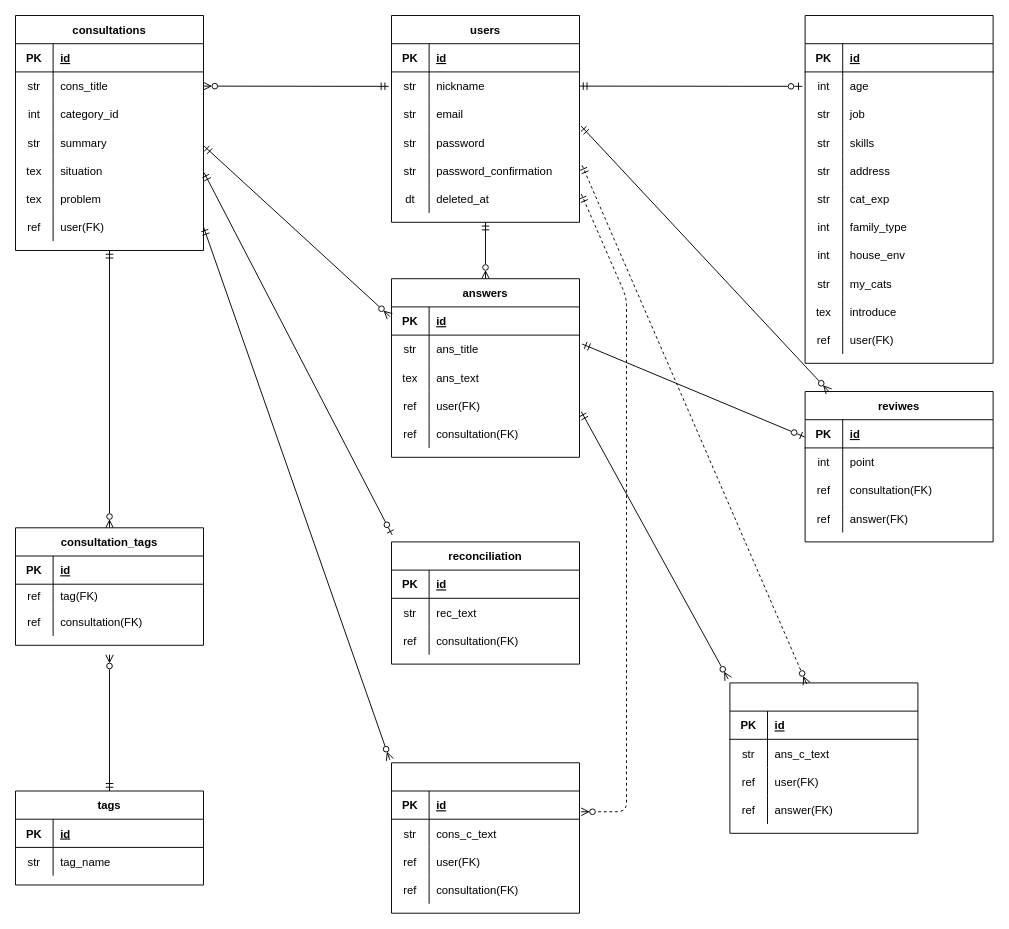
Image size: 1009x929. Some labels were removed from this diagram. Here are the shapes that lost their labels. From the top down, the box of each, then its label:
(804, 15, 993, 363): profiles
(729, 682, 918, 833): ans_comments
(391, 762, 580, 913): cons_comments
